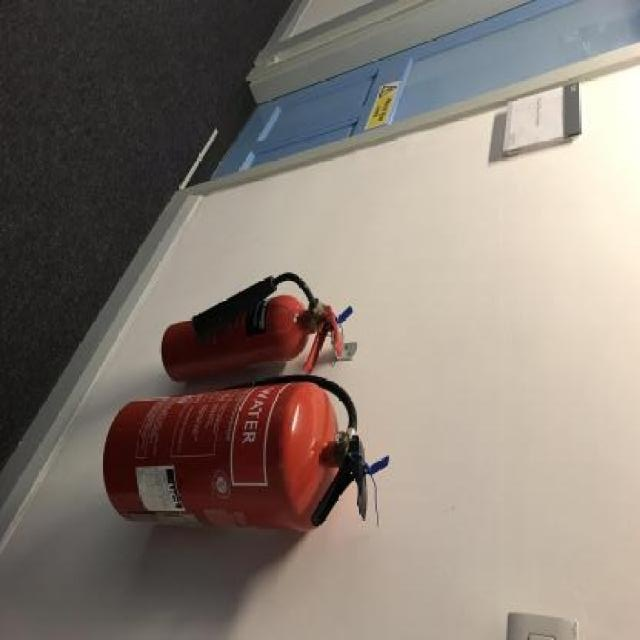fire extinguisher: (103, 374, 391, 532), (160, 273, 345, 384)
